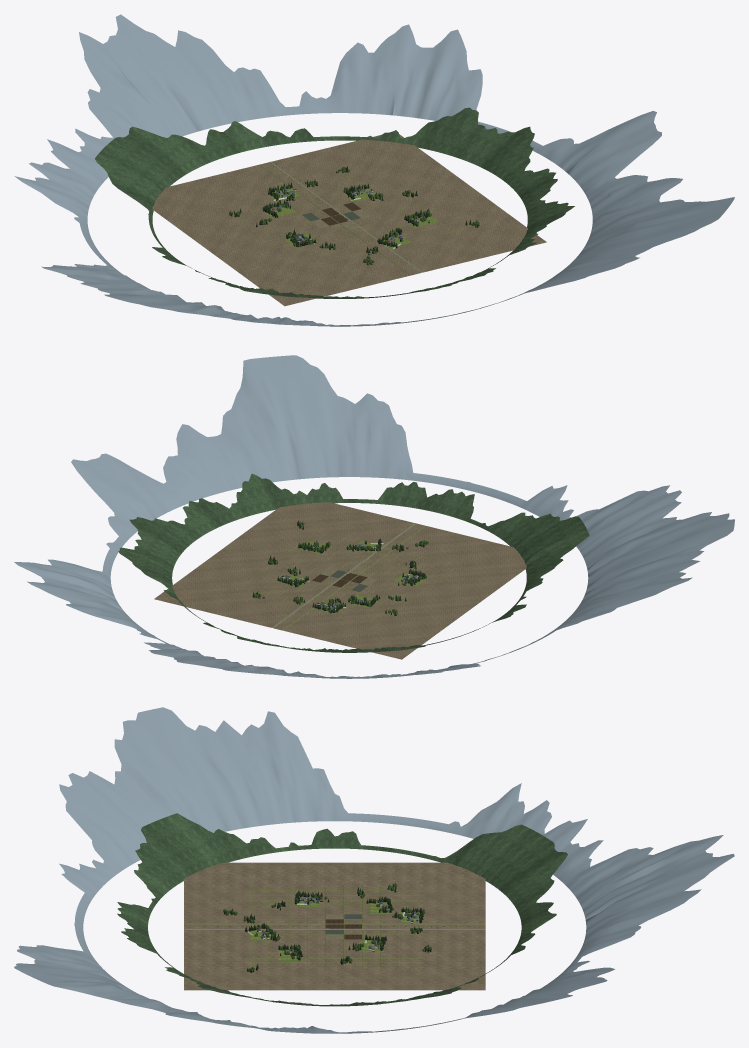
Rendered from field_tanbo.glb.
The picture shows the model from 3 angles, top to bottom: view 1: azimuth 30°, elevation 25°; view 2: azimuth 150°, elevation 25°; view 3: azimuth 270°, elevation 25°; orthographic projection. The views are drawn at different scales.
Parts seen in each view (by area): view 1: Hills, Neighbors, Trees, Houses, NeighborsTilled, Levees; view 2: Hills, Neighbors, Trees, Houses, NeighborsTilled; view 3: Hills, Neighbors, Trees, Houses, Levees, NeighborsTilled.
Part boxes in pixels (box(x1,y1,x2,y2)): Hills: box(14, 14, 734, 326); Neighbors: box(152, 134, 546, 306); Trees: box(229, 166, 479, 265); Houses: box(264, 188, 438, 249); NeighborsTilled: box(302, 202, 370, 229); Levees: box(259, 161, 422, 275); Hills: box(14, 355, 734, 678); Neighbors: box(154, 502, 526, 659); Trees: box(252, 521, 428, 615); Houses: box(277, 541, 425, 613); NeighborsTilled: box(312, 566, 376, 591); Hills: box(14, 707, 734, 1033); Neighbors: box(184, 862, 485, 990); Trees: box(223, 883, 431, 972); Houses: box(247, 895, 422, 960); Levees: box(184, 923, 485, 929); NeighborsTilled: box(307, 914, 361, 939).
Bounding box in the file's own units: 2031 × 201 × 2007.
42 materials, 11 textured.
